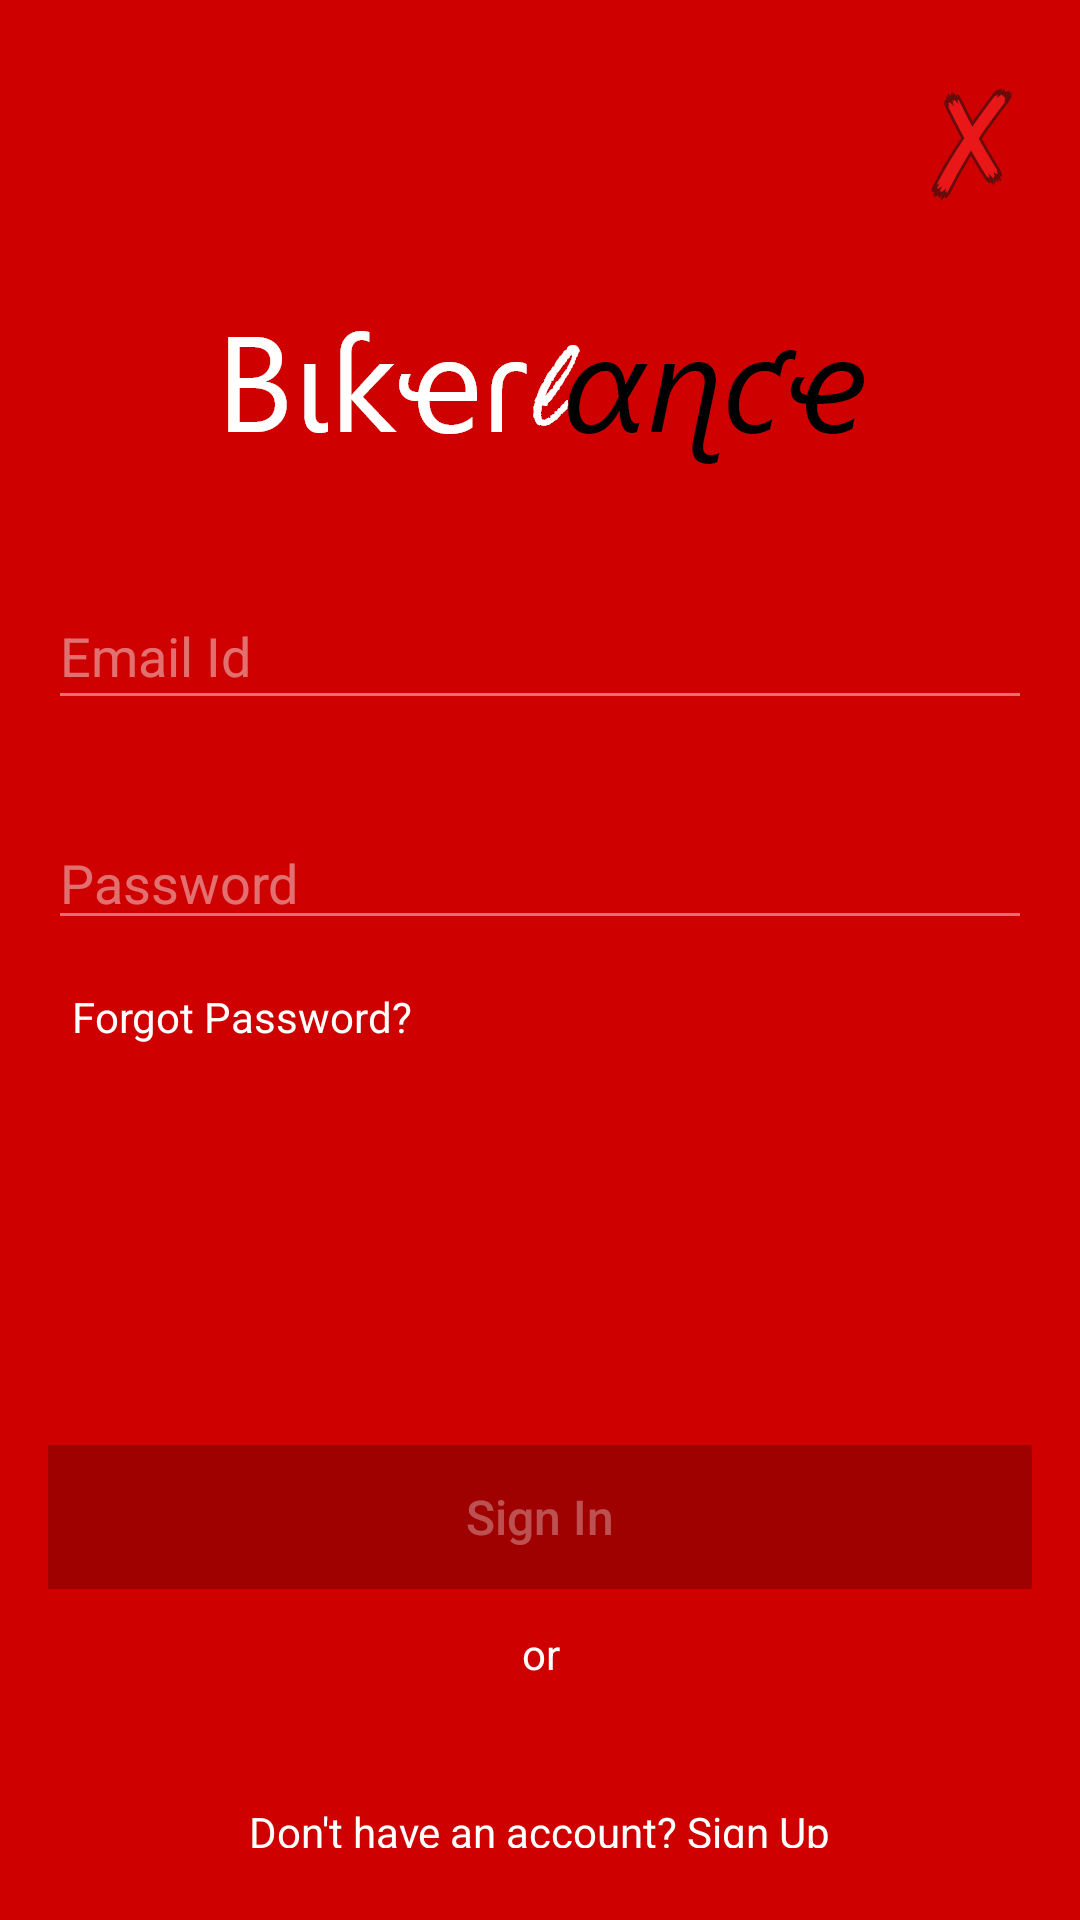

Locate icon controls on the screen. Image size 1080w x 1920h, boxes as box(x1, y1, x2, y2).
close cross: box(931, 88, 1013, 201)
